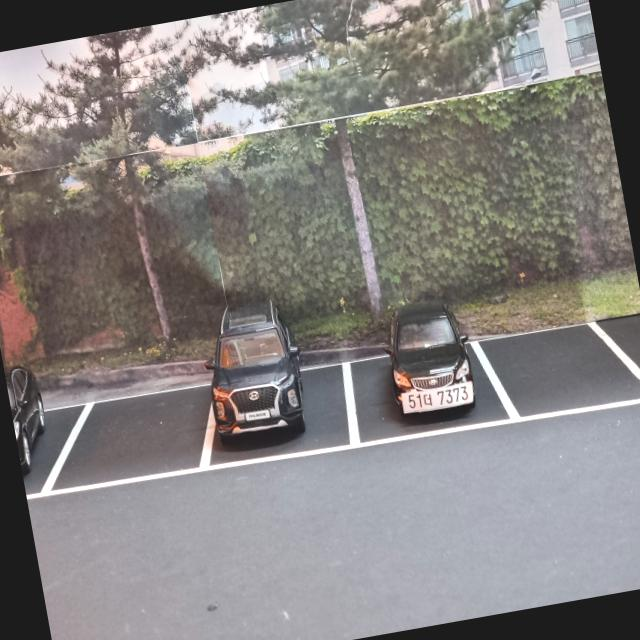car: (194, 292, 320, 449), (374, 294, 478, 420)
free: (470, 304, 640, 434), (45, 379, 228, 499)
